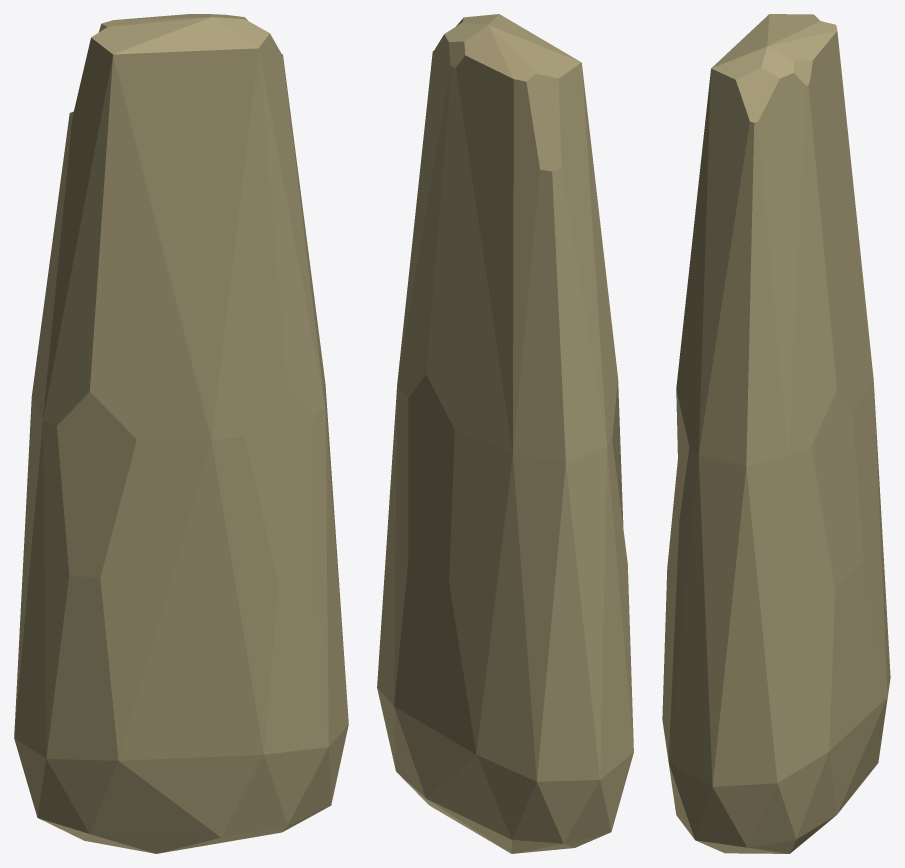
File: stonehenge-2.fbx
The picture shows the model from 3 angles, left to right: view 1: azimuth 30°, elevation 25°; view 2: azimuth 150°, elevation 25°; view 3: azimuth 270°, elevation 25°; orthographic projection. The views are drawn at different scales.
Visible parts, largest first — view 1: Icosphere.003; view 2: Icosphere.003; view 3: Icosphere.003.
Boxes of the visible parts, <box> form: Icosphere.003: <box>14,14,348,853</box>; Icosphere.003: <box>377,14,633,853</box>; Icosphere.003: <box>662,14,890,853</box>.
Size of the model in its own units: 390 by 1129 by 298.
